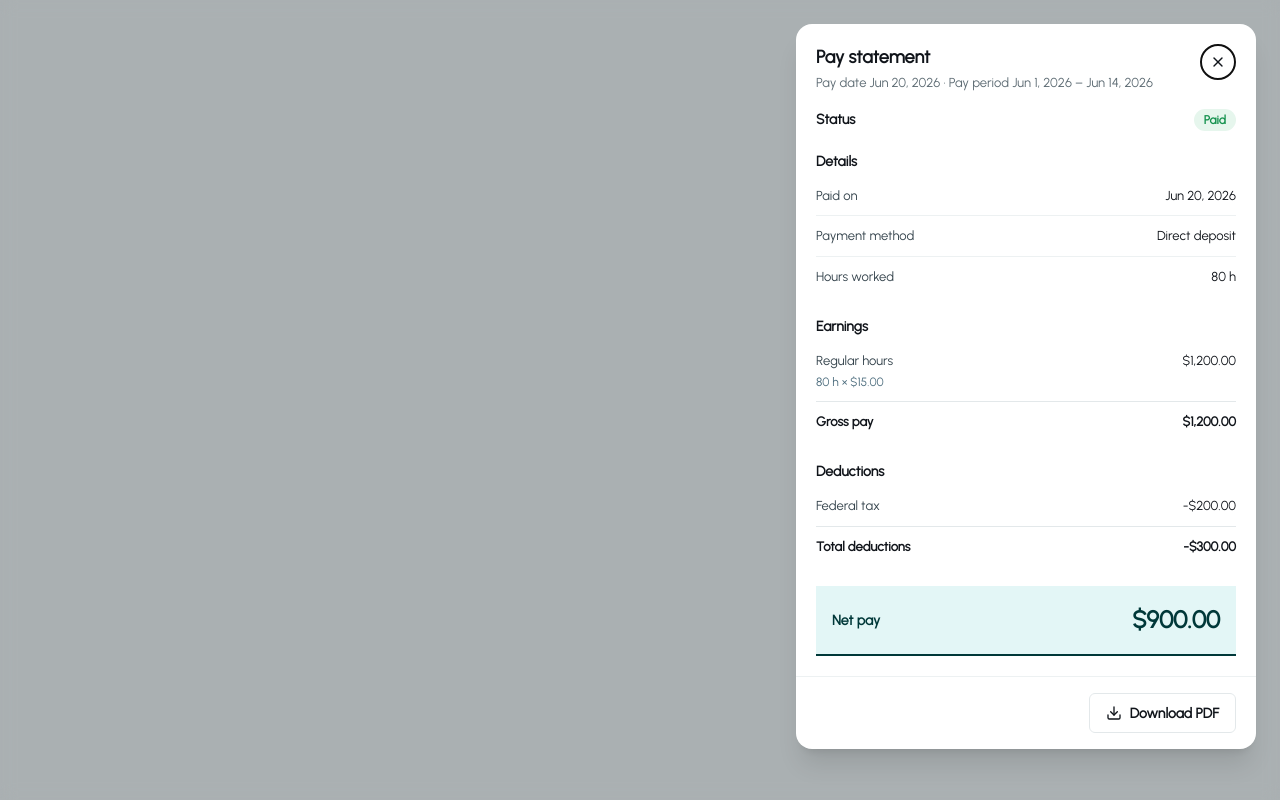
Test: PayStatementDetailModal › keeps download failures in the open dialog and updates selected cached statement values without a detail fetch
Later steps or results of the test are not shown.
Click the button "Download PDF": coordinates (1162, 713) [1089,693,1236,733]
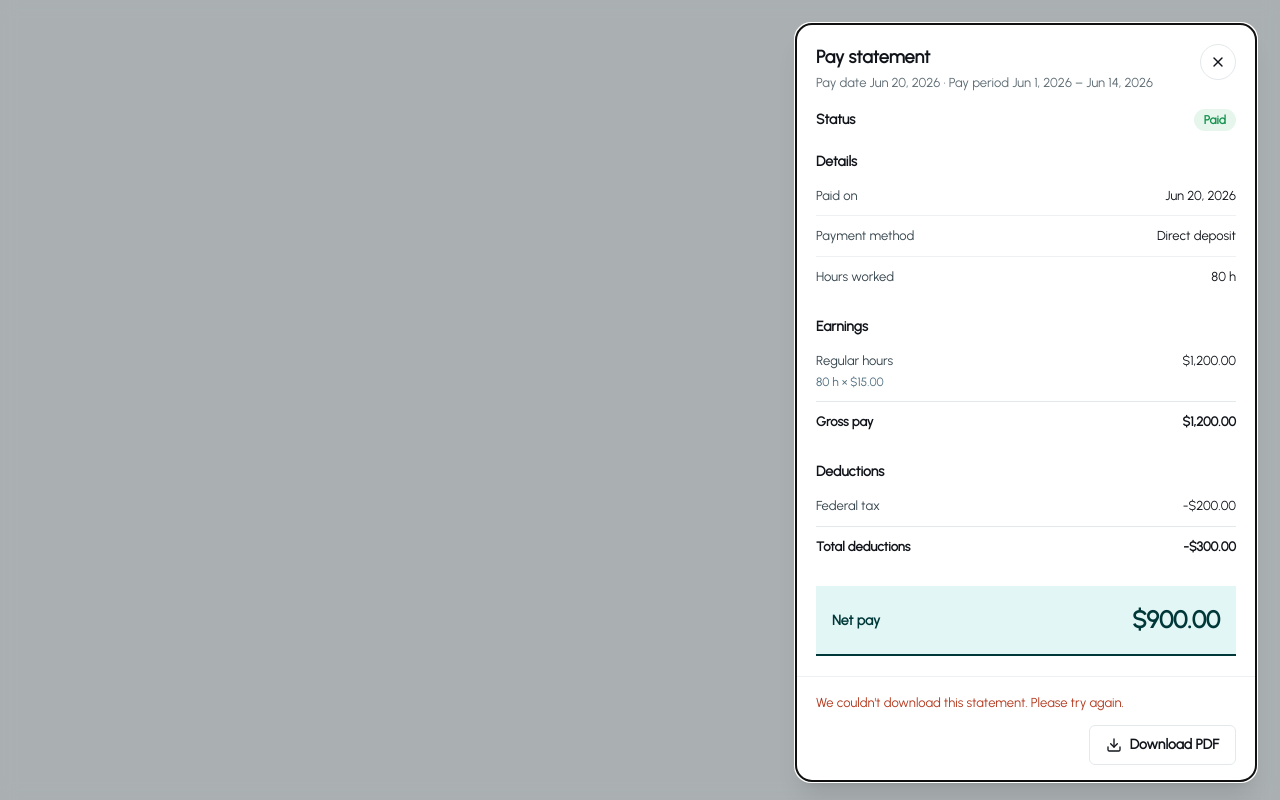
Check: the dialog is shown, box [796,24,1256,780]
Check: the message shows "couldn't download", box [816,695,1124,710]
